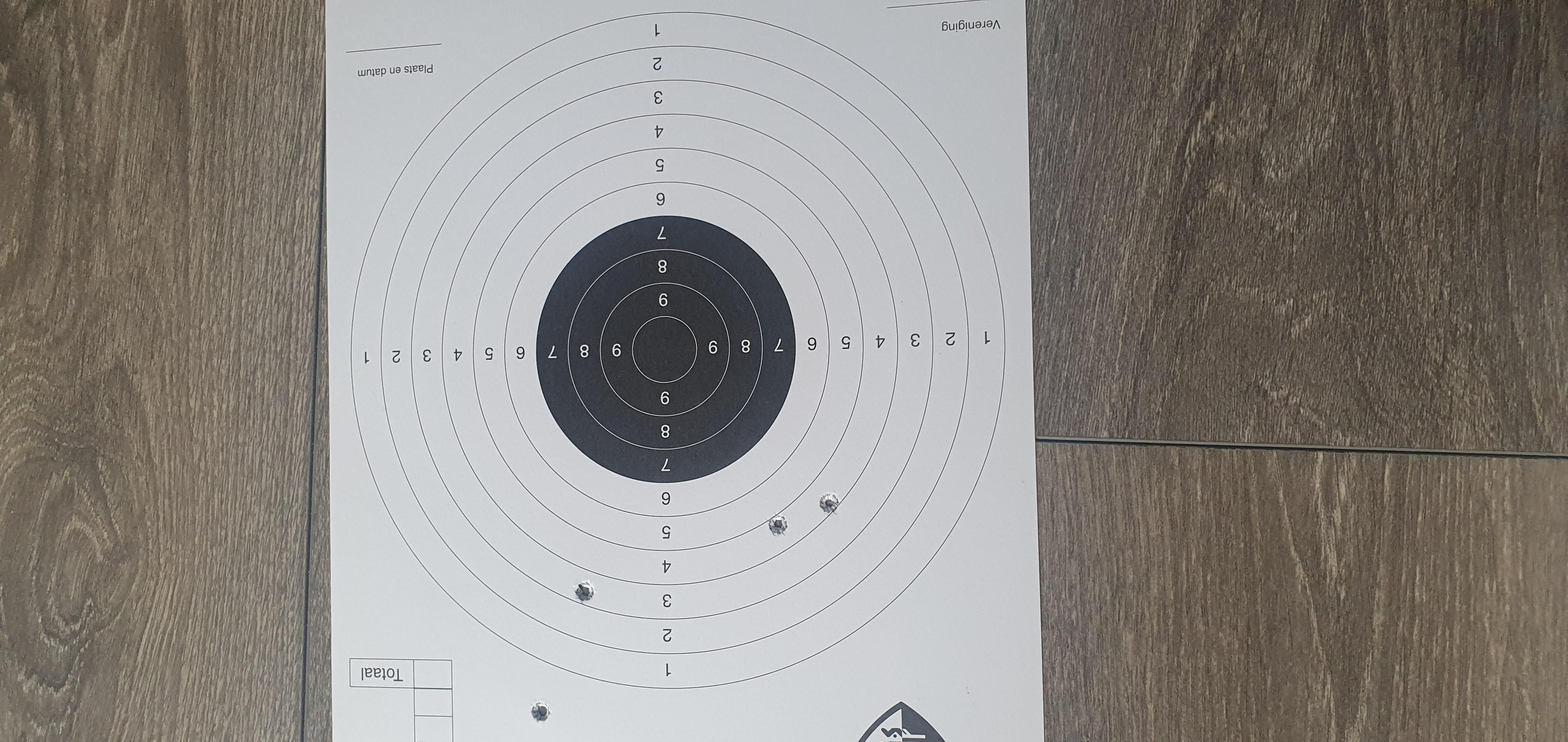hole: (477, 387, 528, 399), (435, 362, 487, 373), (291, 272, 344, 282), (39, 251, 90, 261)
